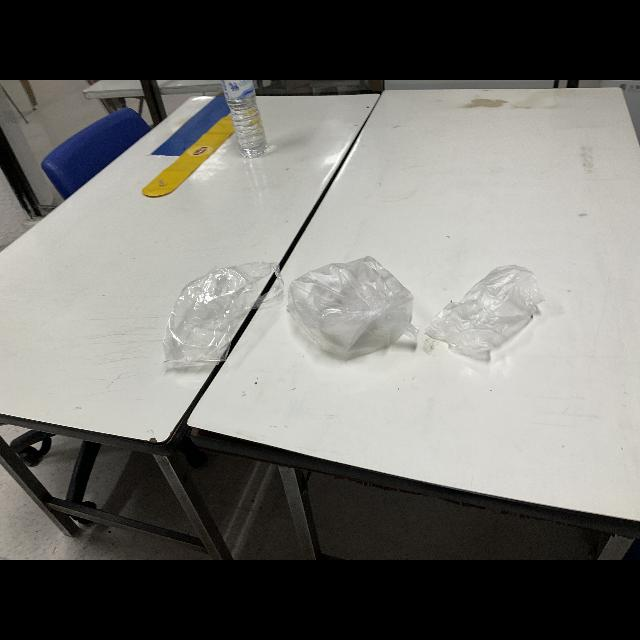plastic_bag: (163, 257, 284, 375), (284, 260, 422, 360), (425, 262, 545, 372)
